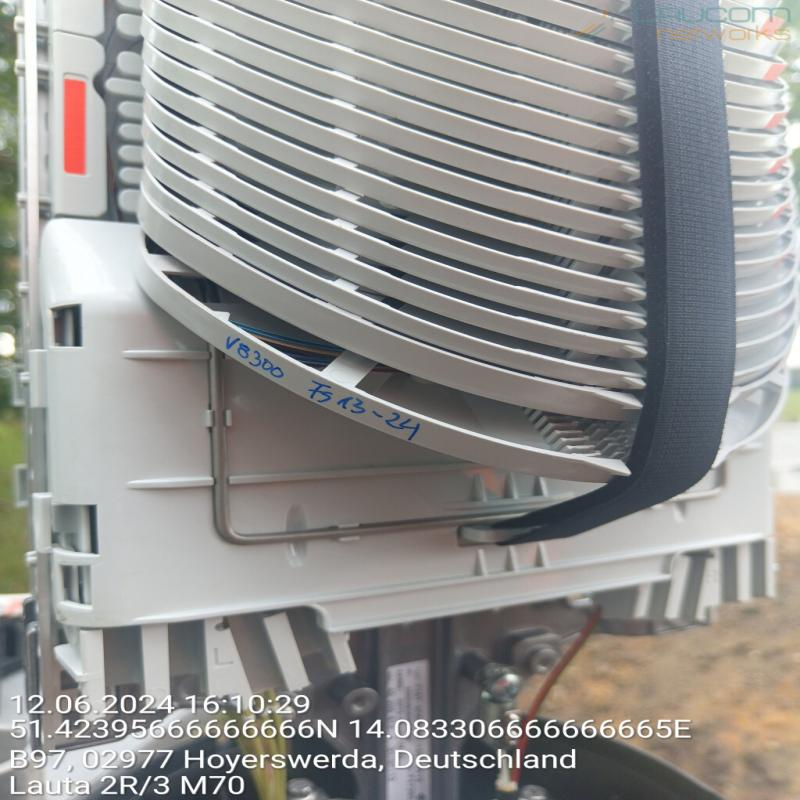NT-Muffen: (24, 0, 790, 800)
